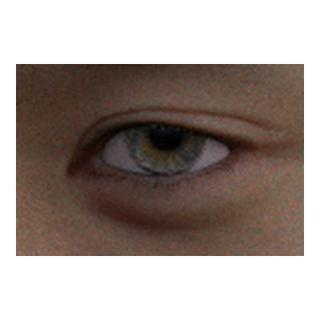pupil: (150, 118, 182, 150)
